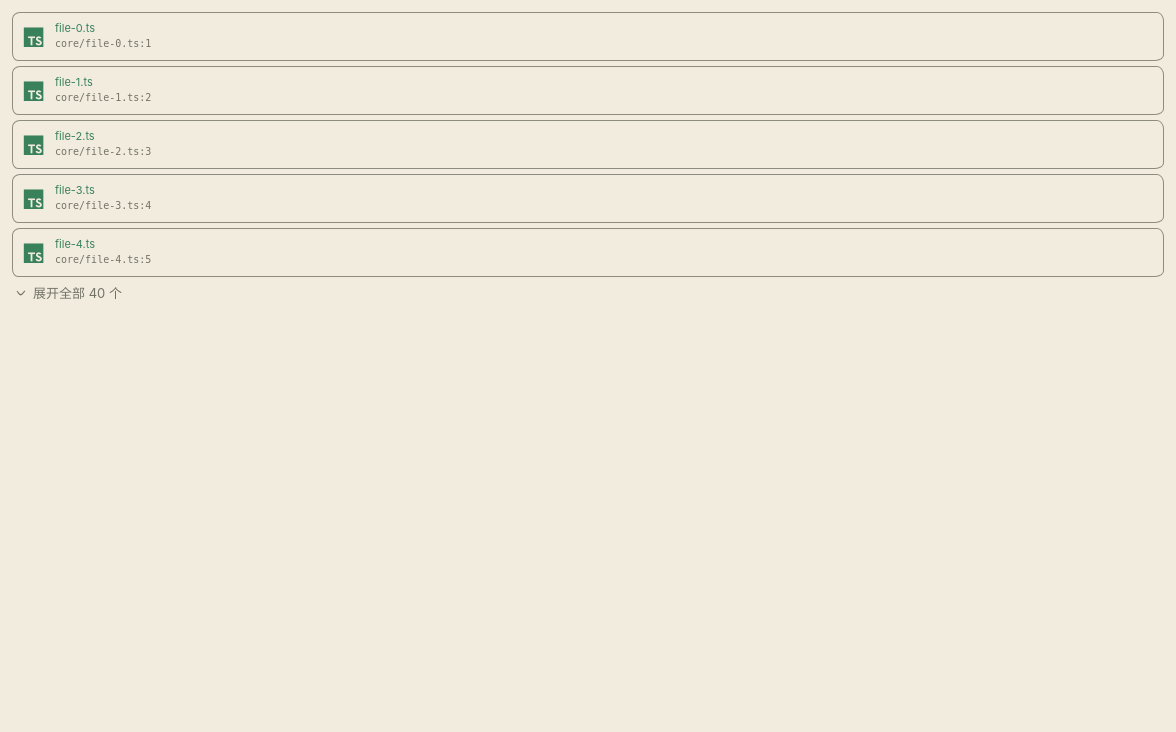
translates the pager with the UI language
What coordinates should you click on to do the following:
click the button "展开全部 40 个"
I would click on:
 (68, 292)
Its box is [12, 279, 124, 306].
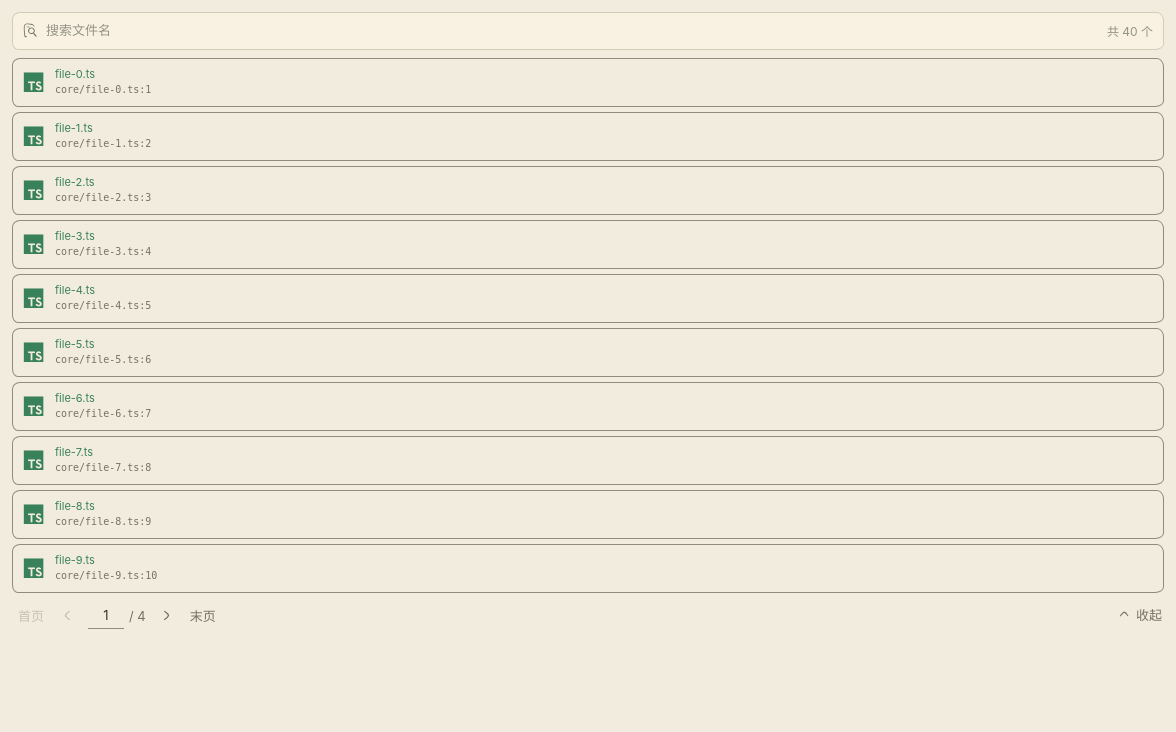
Result: the button named "Next page" is shown at [152, 600, 182, 630]
Result: the text "40 files" is shown at [1107, 22, 1153, 39]
